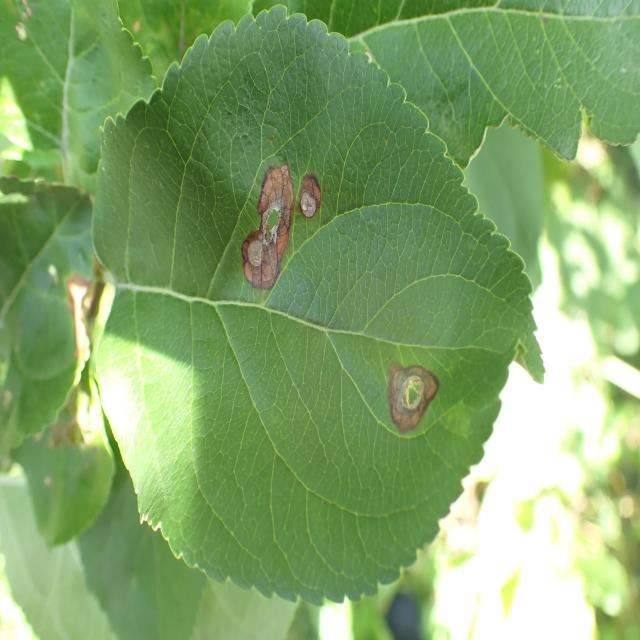Black Rot: (229, 154, 296, 314), (369, 337, 442, 467), (295, 161, 335, 259)
